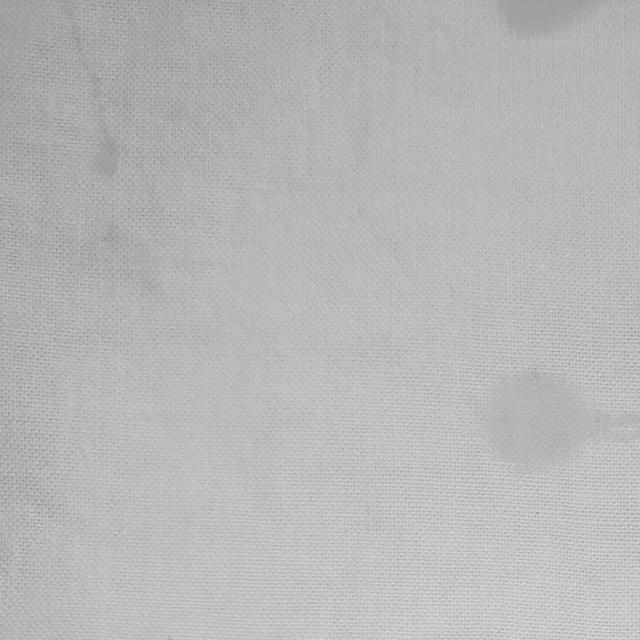Stain: (480, 368, 640, 470), (58, 3, 121, 180), (495, 1, 606, 40)
